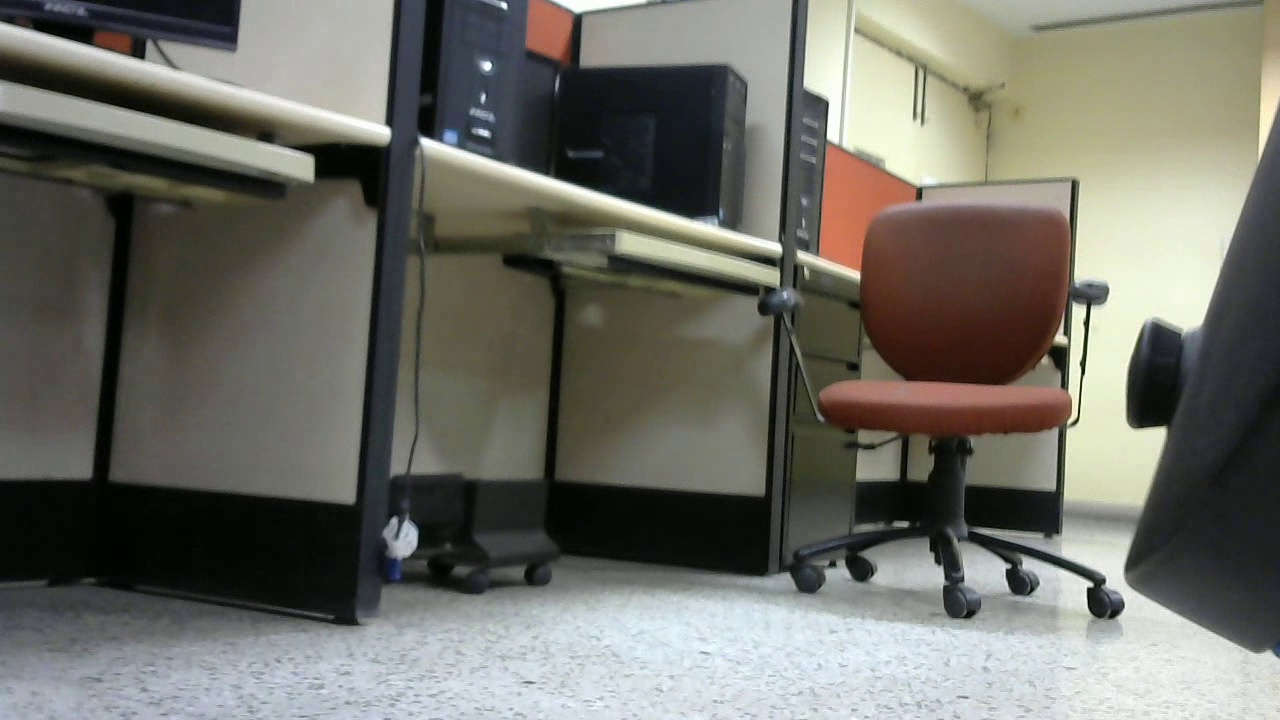chair: (530, 1, 929, 671), (1, 208, 190, 498)
